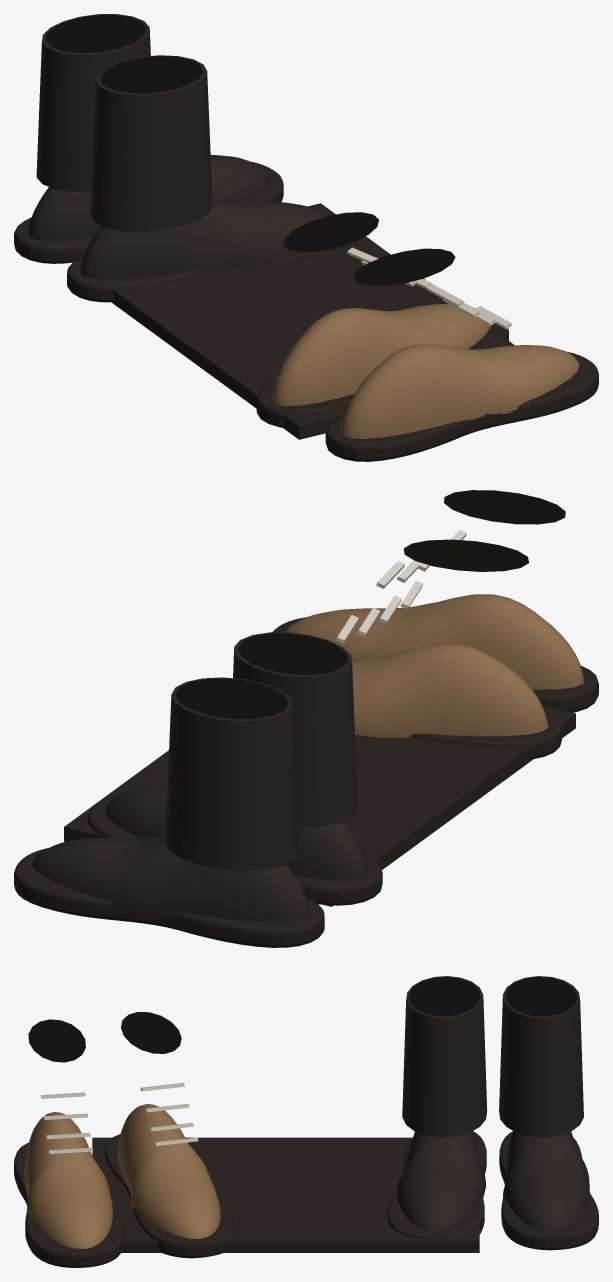
The model's file is two-pairs-shoes-by.glb.
The picture shows the model from 3 angles, top to bottom: view 1: azimuth 30°, elevation 25°; view 2: azimuth 150°, elevation 25°; view 3: azimuth 270°, elevation 25°; orthographic projection. The views are drawn at different scales.
Bounding box in the file's own units: 1.19 × 0.752 × 2.26.
